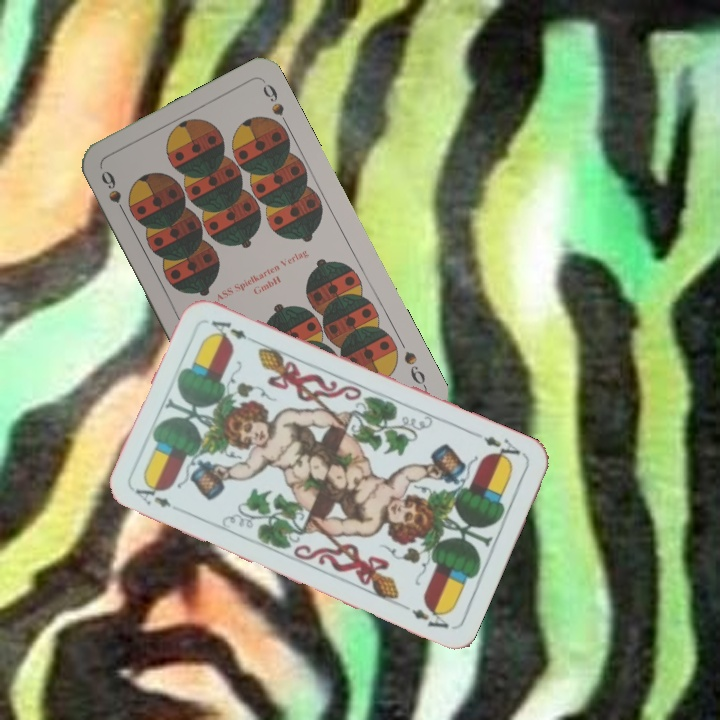EA: (479, 432, 527, 466), (131, 478, 174, 511)
S9: (96, 166, 131, 221), (399, 347, 429, 391)
